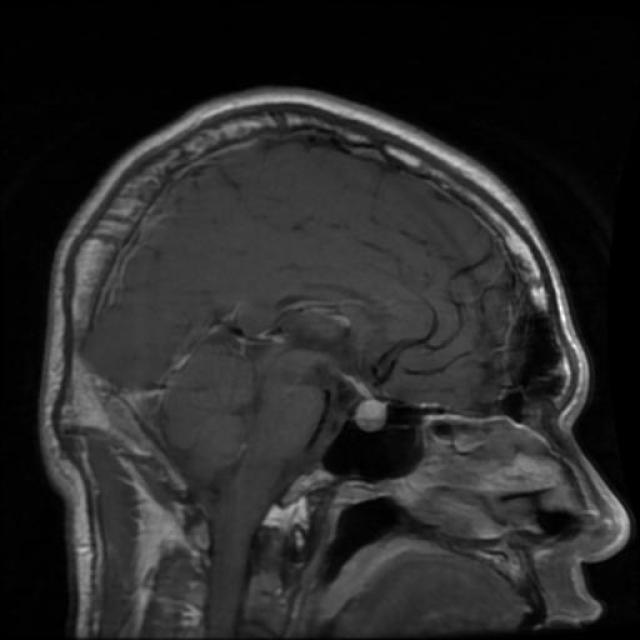pituitary: (318, 371, 406, 447)
